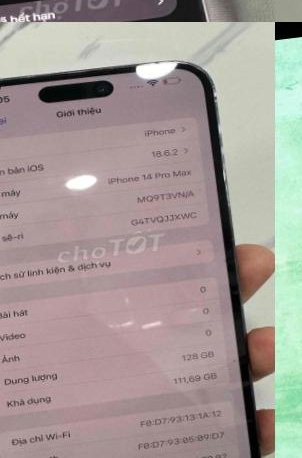screen_defect: (0, 65, 18, 111)
